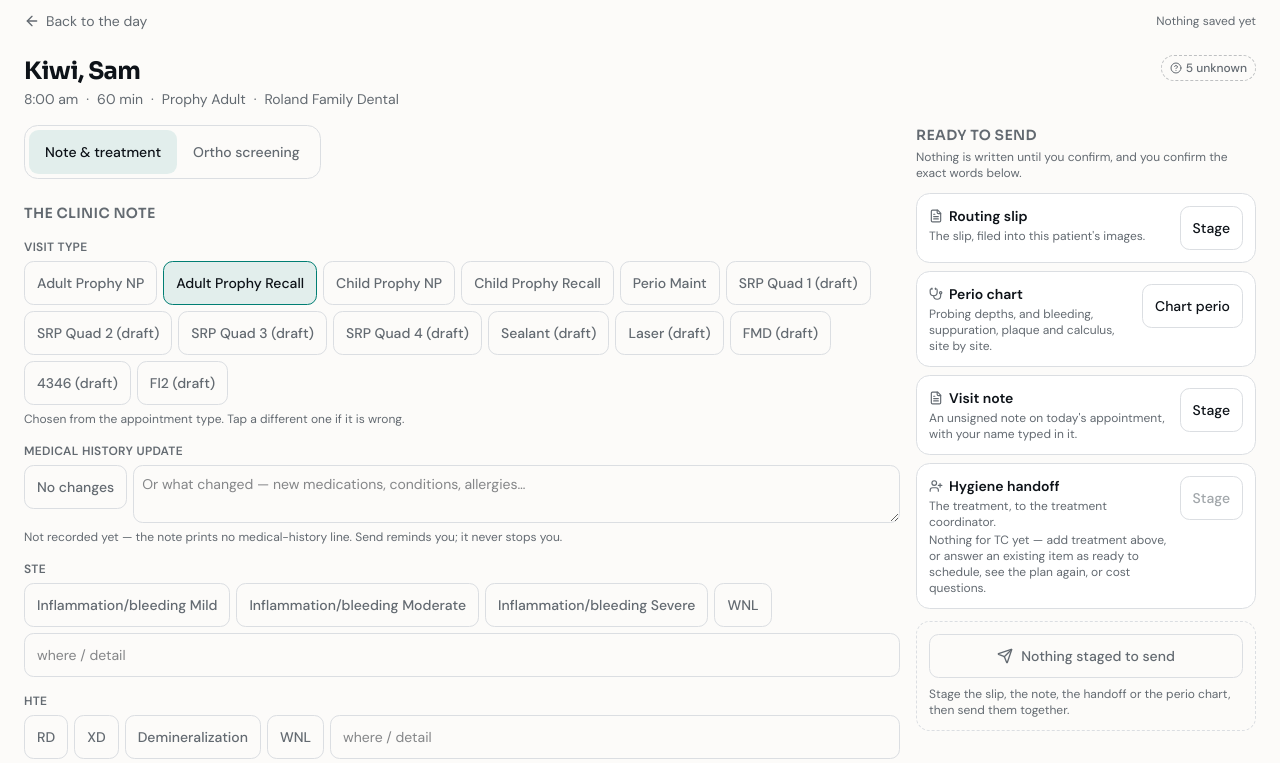
Test: 5 + 6: the send › Sent shows the time and the chips go read-only
Click the tab with test id "hyg-visit-tab-ortho". click: (246, 152)
box: [177,130,316,174]
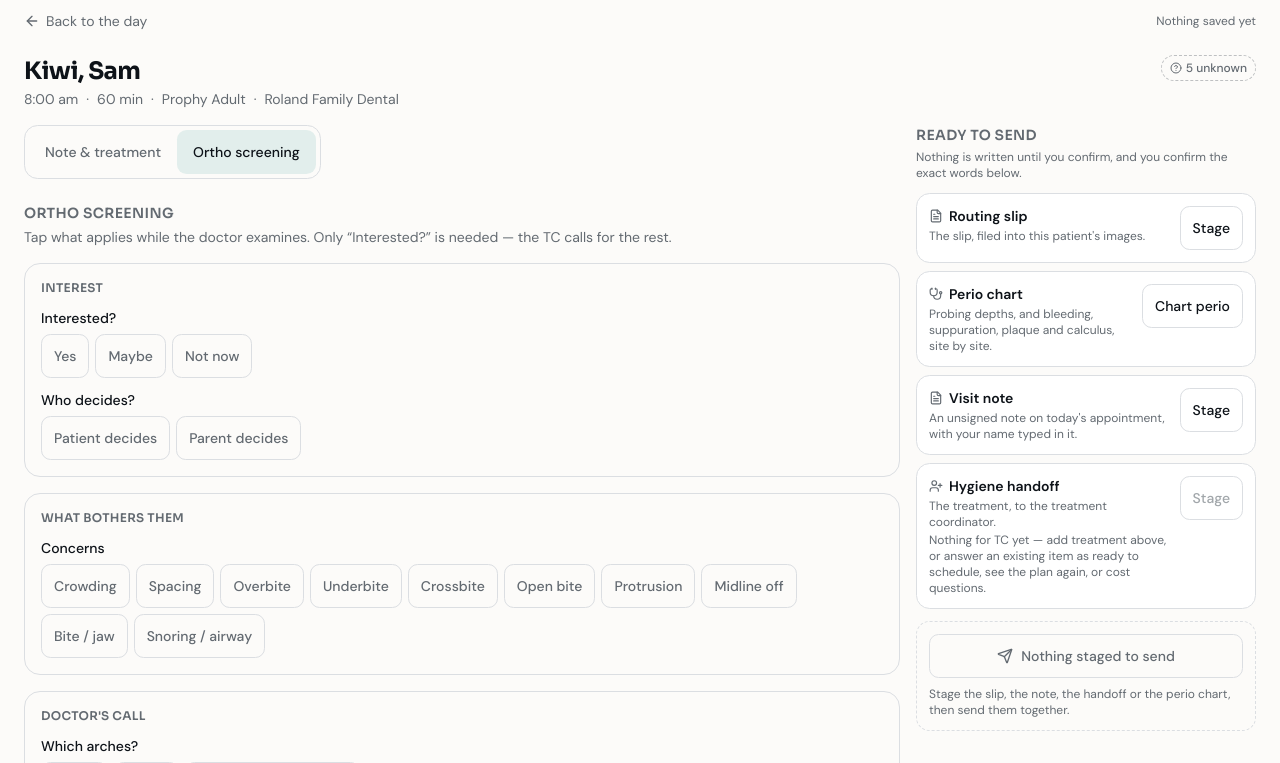
Click the button with test id "ortho-interest-yes". click: (65, 356)
box: [41,334,89,378]
(page scrolled)
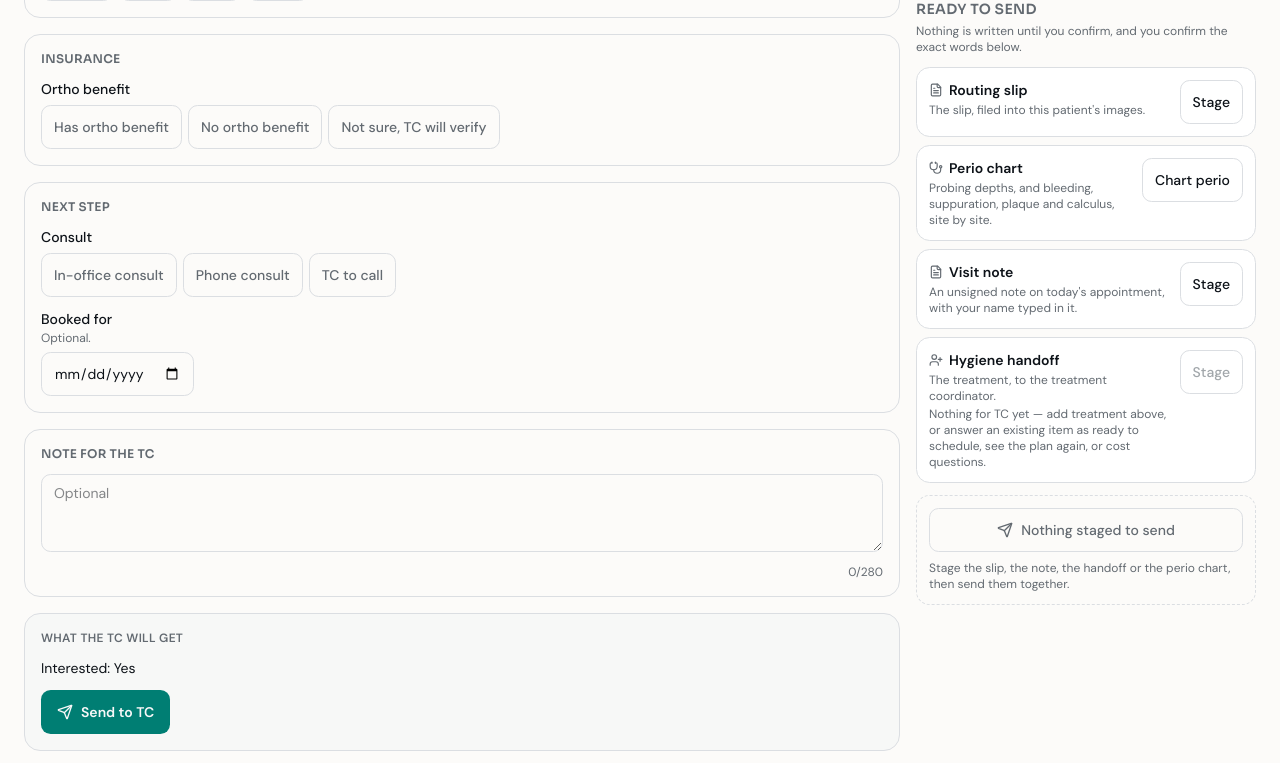
Click the button with test id "ortho-send". click: (106, 712)
box: [41,690,170,734]
(page scrolled)
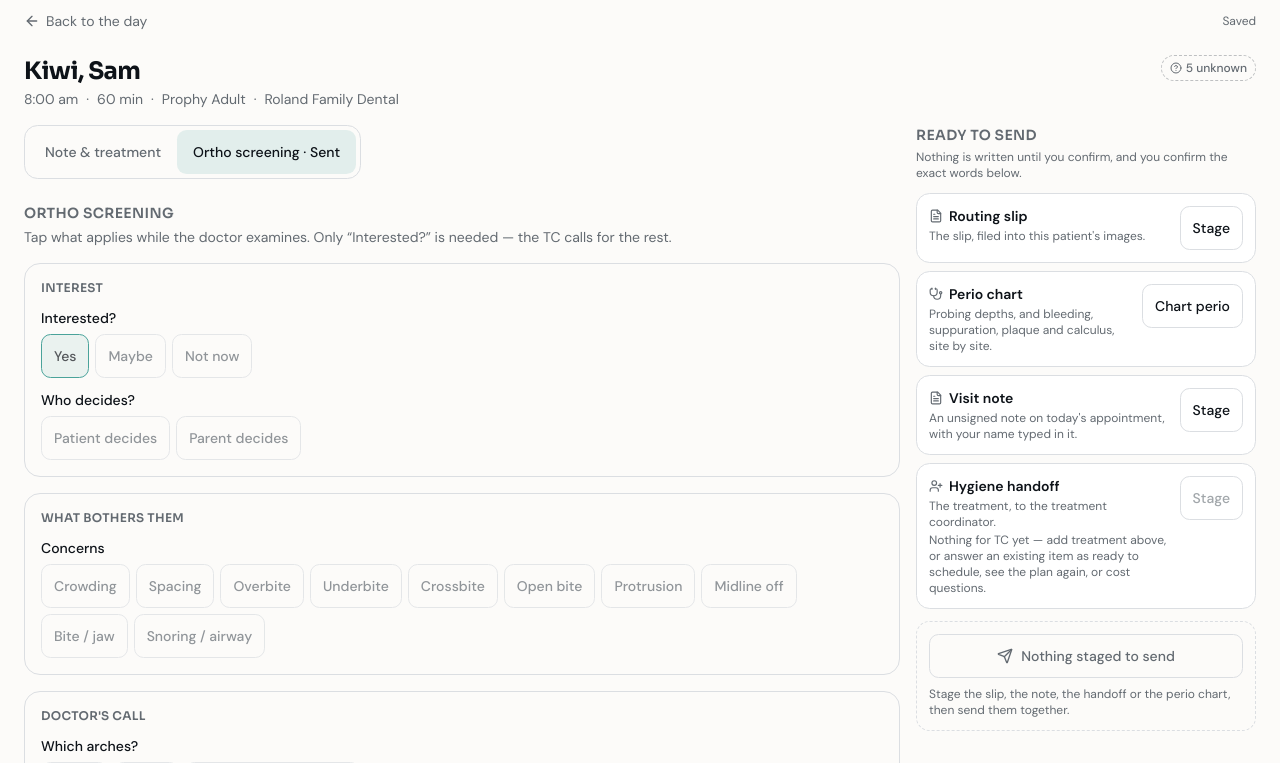
Expected: the button with test id "ortho-send" is gone
Expected: the button with test id "ortho-interest-maybe" is disabled, [95,334,166,378]
Expected: the tab with test id "hyg-visit-tab-ortho" shows "Sent", [177,130,356,174]
